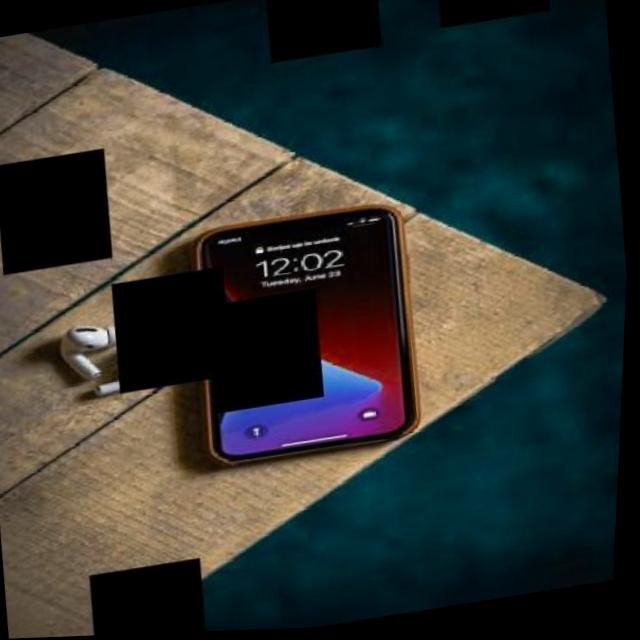Smartphone: (186, 203, 427, 470)
